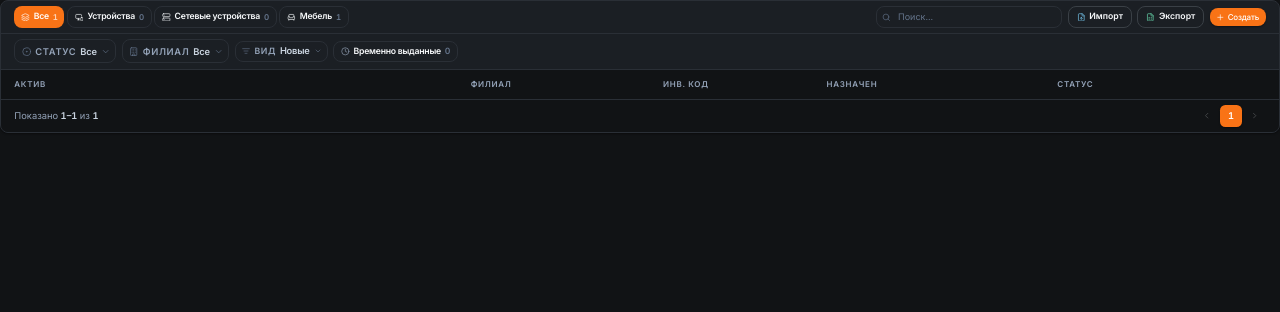
Test: AssetsPage parity — temp filter + derived-status › temp toggle shows empty state after click when no temporary assets exist
This screenshot has width=1280, height=312.
Note: click temp toggle
Click the button "Временно выданные 0": (396, 51) [333, 41, 458, 62]
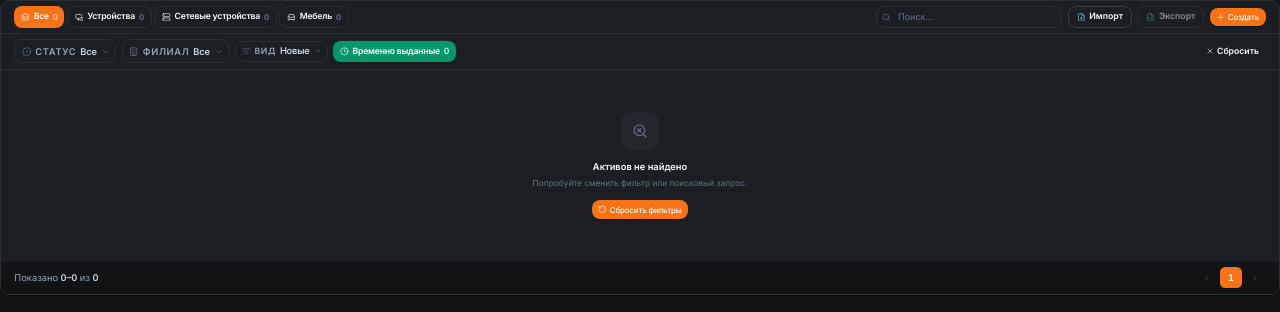
Check: the text "WH/001" is not shown
Check: the heading "Активов не найдено" is shown, box [593, 160, 687, 174]
